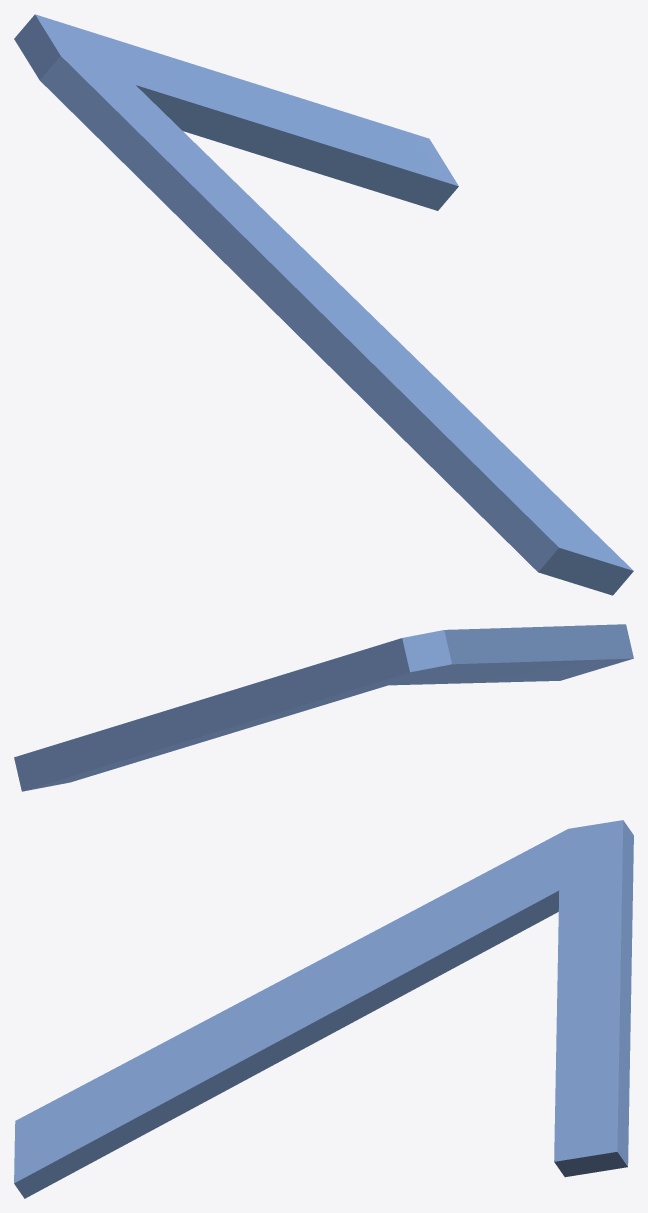
The model's file is New_Number_7.gltf.
The picture shows the model from 3 angles, top to bottom: view 1: azimuth 30°, elevation 25°; view 2: azimuth 150°, elevation 25°; view 3: azimuth 270°, elevation 25°; orthographic projection. The views are drawn at different scales.
Visible parts, largest first — view 1: Part 619; view 2: Part 619; view 3: Part 619.
Boxes of the visible parts, x1,y1,x2,y2 form: Part 619: [14, 14, 633, 595]; Part 619: [14, 624, 633, 791]; Part 619: [14, 820, 633, 1198].
Bounding box in the file's own units: 0.00342 × 0.00287 × 0.00546.
